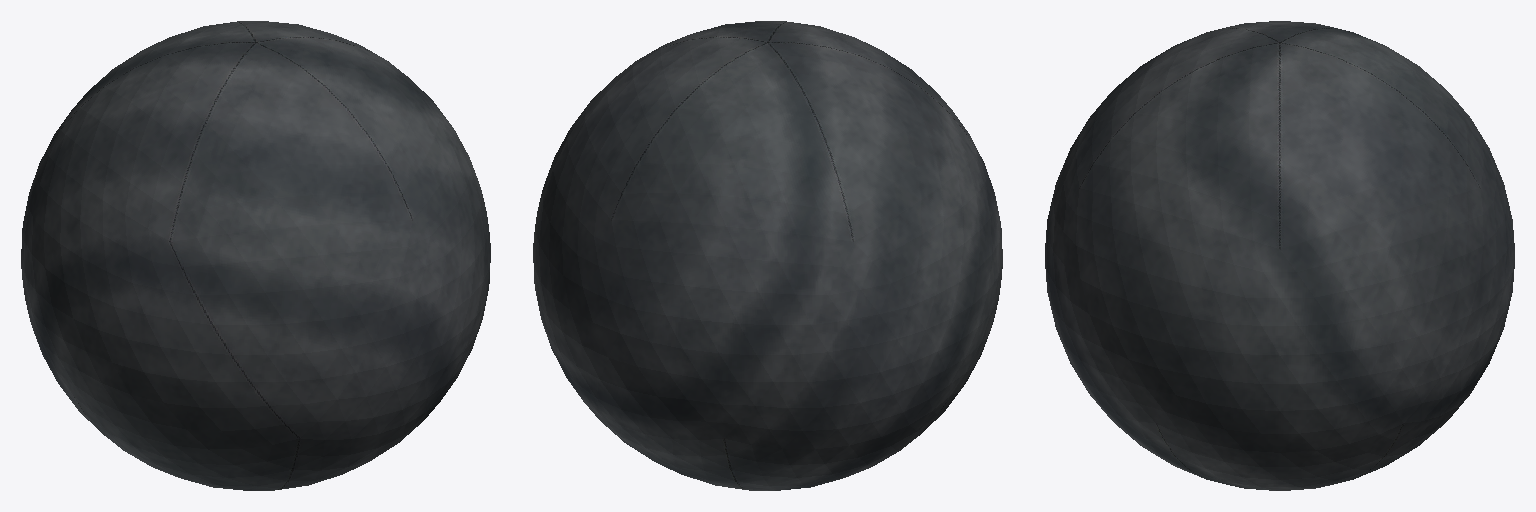
3 views of the same model, side by side, from view 1: azimuth 30°, elevation 25°; view 2: azimuth 150°, elevation 25°; view 3: azimuth 270°, elevation 25° (orthographic).
Visible parts, largest first — view 1: Icosphere.012; view 2: Icosphere.012; view 3: Icosphere.012.
Boxes of the visible parts, box(x1,y1,x2,y2) form: Icosphere.012: box(21, 21, 490, 490); Icosphere.012: box(533, 21, 1002, 490); Icosphere.012: box(1045, 21, 1514, 490).
Bounding box in the file's own units: 0.0197 × 0.0197 × 0.0197.
Materials: 1 (1 with a texture image).